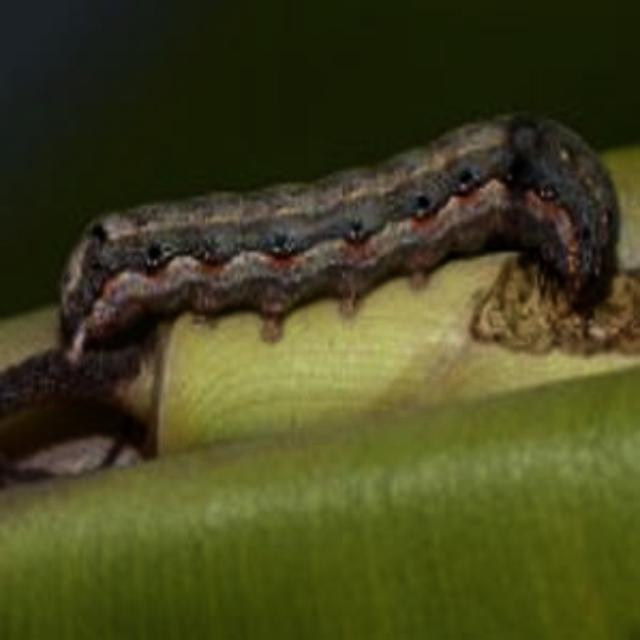Tobacco cutworm: (29, 80, 640, 430)
